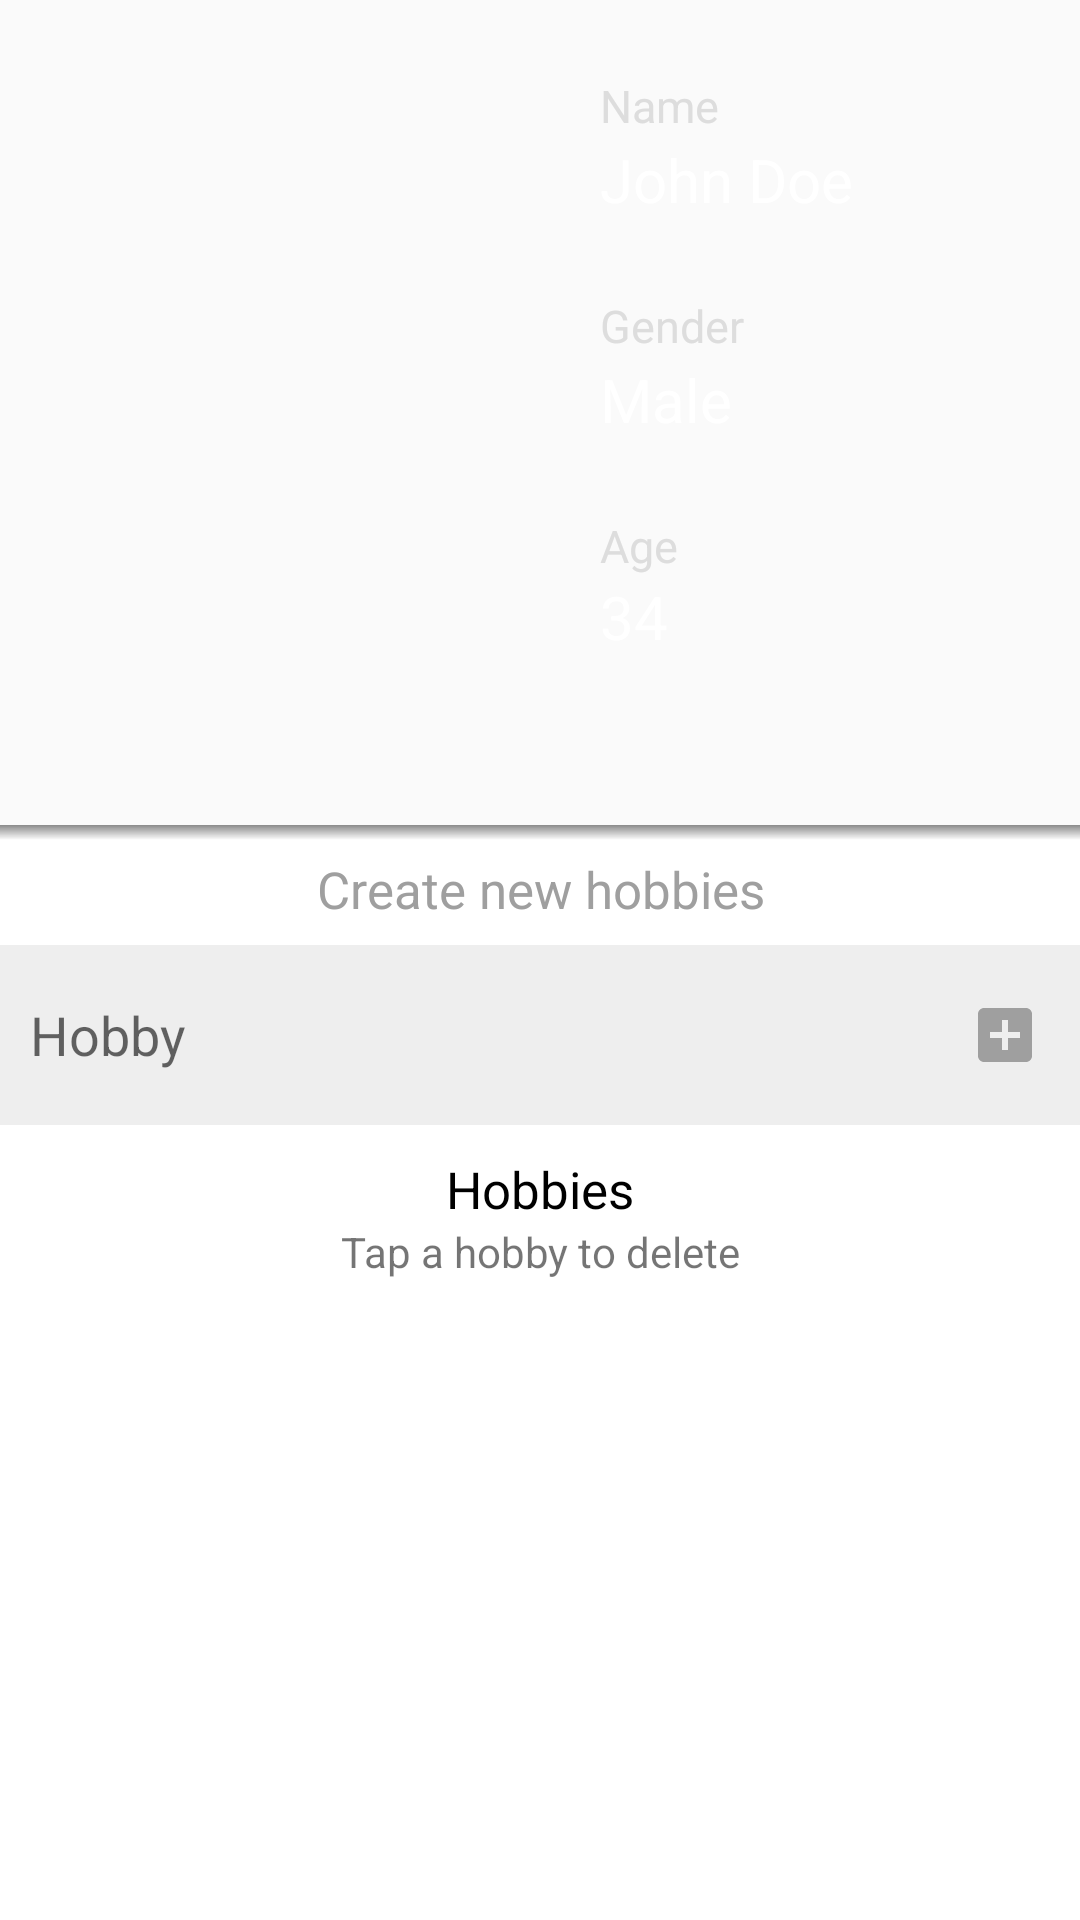

Icons on this 1080px x 1920px Android screen, each with the point to tap as (x,y):
add box: (1005,1035)
